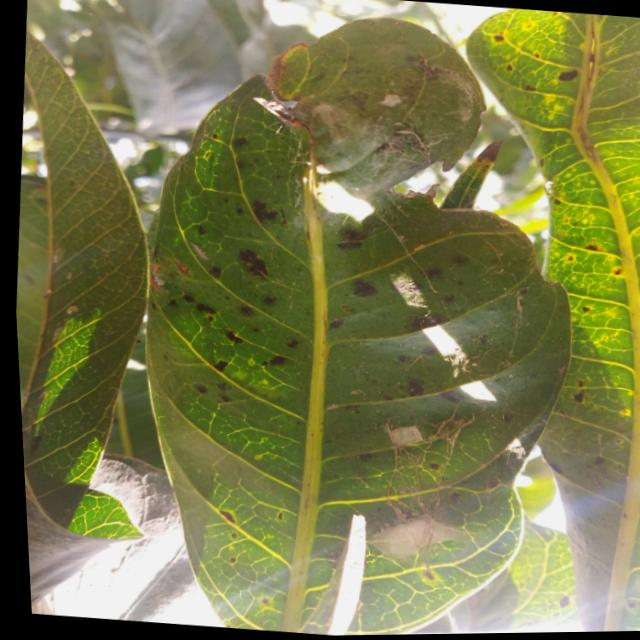Anthracnose: (250, 70, 329, 140), (498, 62, 539, 94), (603, 258, 624, 278), (549, 70, 575, 85), (578, 239, 602, 254)
Bacterial Cancer: (362, 84, 404, 109)
black die: (231, 247, 274, 278), (244, 196, 281, 227), (338, 227, 371, 254), (346, 277, 382, 301), (420, 266, 441, 282), (195, 226, 208, 239)
